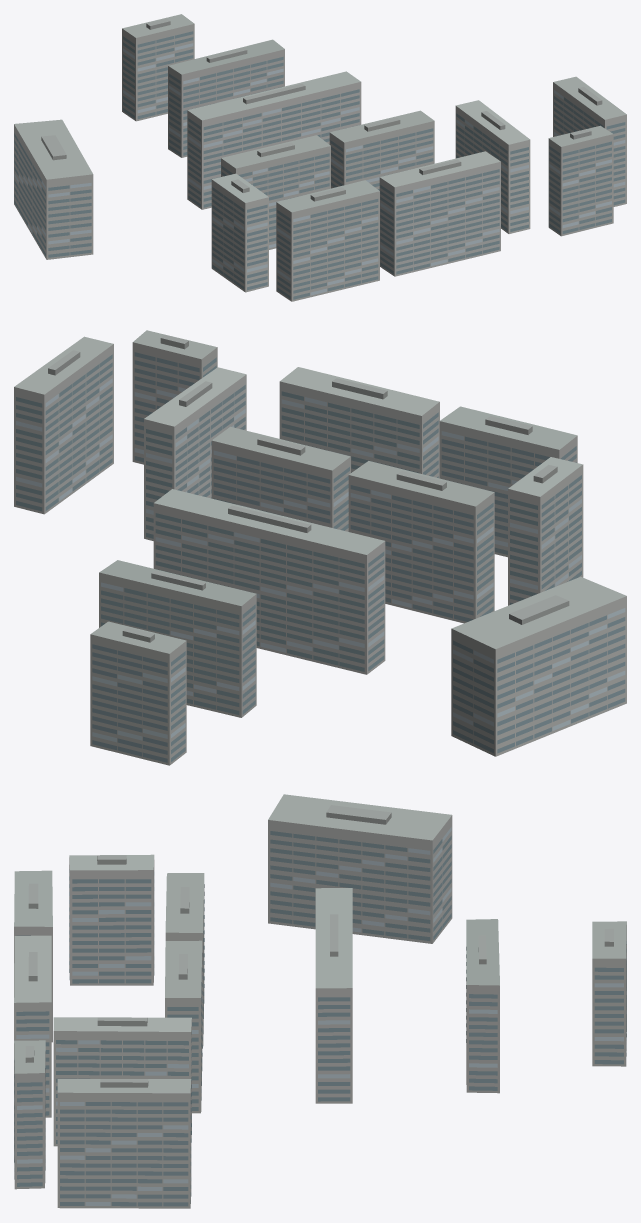
The model's file is apt-a15785710.glb.
3 renders of one model, top to bottom at view 1: azimuth 30°, elevation 25°; view 2: azimuth 150°, elevation 25°; view 3: azimuth 270°, elevation 25°, orthographic. The views are drawn at different scales.
Visible parts, largest first — view 1: apt-a15785710; view 2: apt-a15785710; view 3: apt-a15785710.
Boxes of the visible parts, x1,y1,x2,y2 form: apt-a15785710: (14,14,626,301); apt-a15785710: (14,330,626,765); apt-a15785710: (14,794,626,1208).
Bounding box in the file's own units: 264 × 47.81 × 220.
